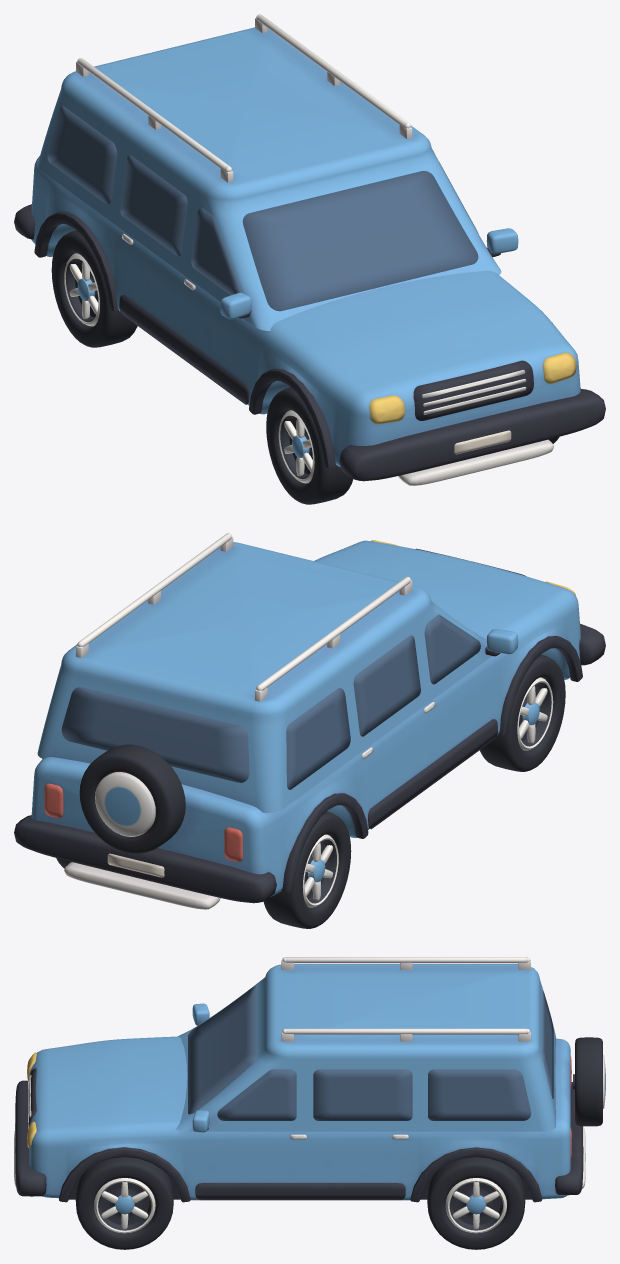
The model's file is suv.glb.
The picture shows the model from 3 angles, top to bottom: view 1: azimuth 30°, elevation 25°; view 2: azimuth 150°, elevation 25°; view 3: azimuth 270°, elevation 25°; orthographic projection. The views are drawn at different scales.
Visible parts, largest first — view 1: suv_body, suv_windows, suv_wheel_fr, suv_wheel_rr; view 2: suv_body, suv_windows, suv_wheel_rr, suv_wheel_fr; view 3: suv_body, suv_windows, suv_wheel_fl, suv_wheel_rl.
Boxes of the visible parts, x1=… form: suv_body: x1=14, y1=14, x2=605, y2=485; suv_windows: x1=47, y1=106, x2=478, y2=311; suv_wheel_fr: x1=266, y1=387, x2=353, y2=504; suv_wheel_rr: x1=51, y1=230, x2=137, y2=347; suv_body: x1=14, y1=533, x2=605, y2=909; suv_windows: x1=61, y1=614, x2=480, y2=789; suv_wheel_rr: x1=263, y1=811, x2=351, y2=928; suv_wheel_fr: x1=479, y1=654, x2=565, y2=771; suv_body: x1=14, y1=957, x2=605, y2=1202; suv_windows: x1=188, y1=986, x2=553, y2=1120; suv_wheel_fl: x1=75, y1=1157, x2=173, y2=1249; suv_wheel_rl: x1=427, y1=1157, x2=525, y2=1249.
Size of the model in its own units: 2.18 by 1.82 by 4.65.
18 materials, 1 textured.
